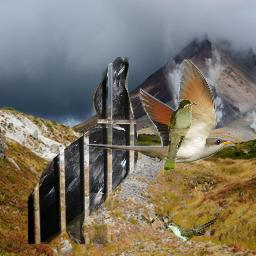Crow: (28, 57, 138, 244)
Cuckoo: (86, 59, 235, 163), (163, 99, 197, 175), (164, 217, 219, 242)
